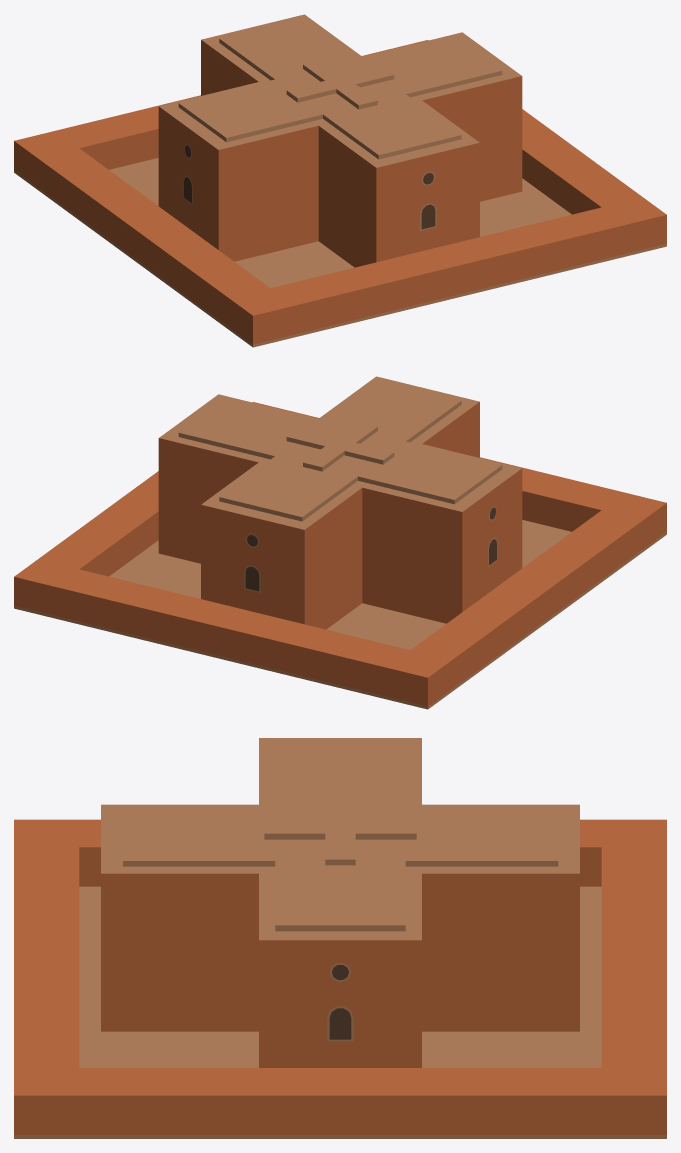
Rendered from eglise_monolithe.glb.
3 views of the same model, one above another, from view 1: azimuth 30°, elevation 25°; view 2: azimuth 150°, elevation 25°; view 3: azimuth 270°, elevation 25° (orthographic). The views are drawn at different scales.
Parts seen in each view (by area): view 1: eglise_monolithe; view 2: eglise_monolithe; view 3: eglise_monolithe.
Boxes of the visible parts, x1,y1,x2,y2 form: eglise_monolithe: [14, 14, 666, 347]; eglise_monolithe: [14, 376, 666, 709]; eglise_monolithe: [14, 738, 666, 1138].
Size of the model in its own units: 30 by 8.8 by 30.
Materials: 1 (1 with a texture image).
